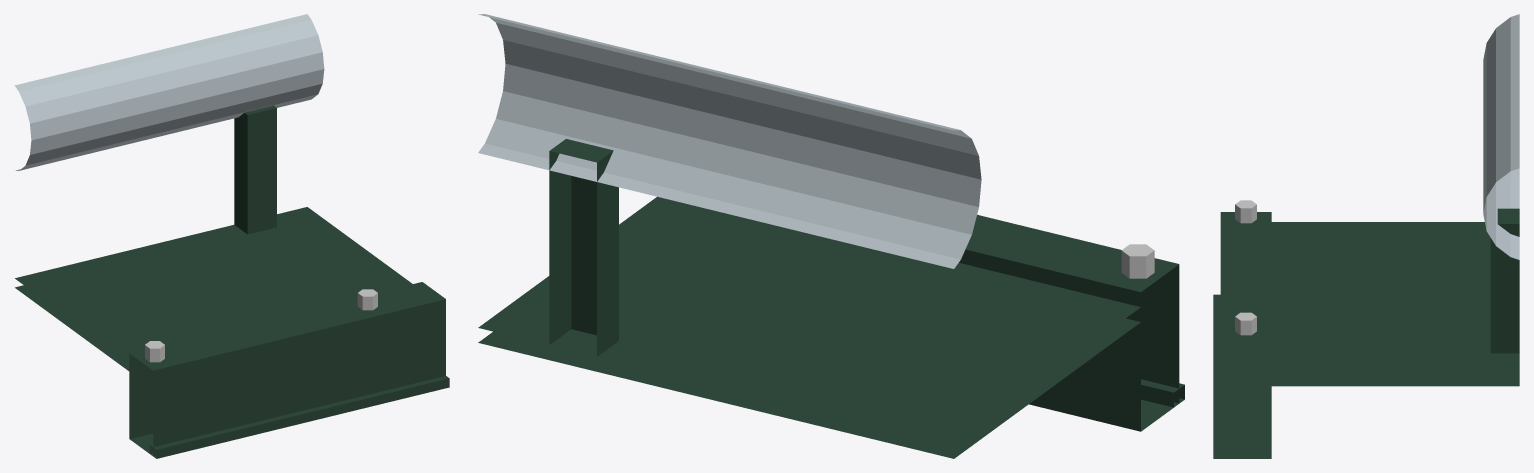
The model's file is cell_21.obj.
The picture shows the model from 3 angles, left to right: view 1: azimuth 30°, elevation 25°; view 2: azimuth 150°, elevation 25°; view 3: azimuth 270°, elevation 25°; orthographic projection. The views are drawn at different scales.
Bounding box in the file's own units: 1 × 0.879 × 0.84.
